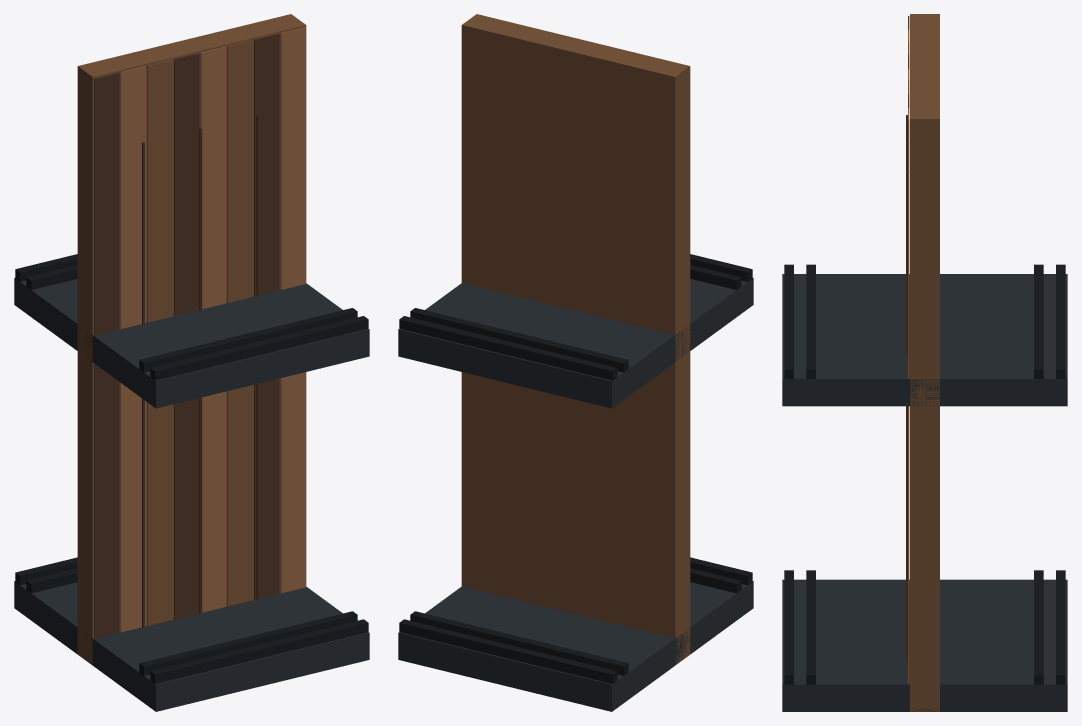
The model's file is keyboard-stand.glb.
3 renders of one model, left to right at view 1: azimuth 30°, elevation 25°; view 2: azimuth 150°, elevation 25°; view 3: azimuth 270°, elevation 25°, orthographic.
Visible parts, largest first — view 1: stand-spine (×12), stand-shelves (×10); view 2: stand-spine, stand-shelves (×10); view 3: stand-shelves (×10), stand-spine (×3).
Boxes of the visible parts, x1=… form: stand-spine (×12): x1=77, y1=14, x2=306, y2=665; stand-shelves (×10): x1=14, y1=254, x2=369, y2=711; stand-spine: x1=461, y1=14, x2=690, y2=664; stand-shelves (×10): x1=398, y1=254, x2=753, y2=711; stand-shelves (×10): x1=782, y1=264, x2=1067, y2=711; stand-spine (×3): x1=906, y1=14, x2=939, y2=711.
Size of the model in its own units: 1.68 by 4.42 by 1.92.
